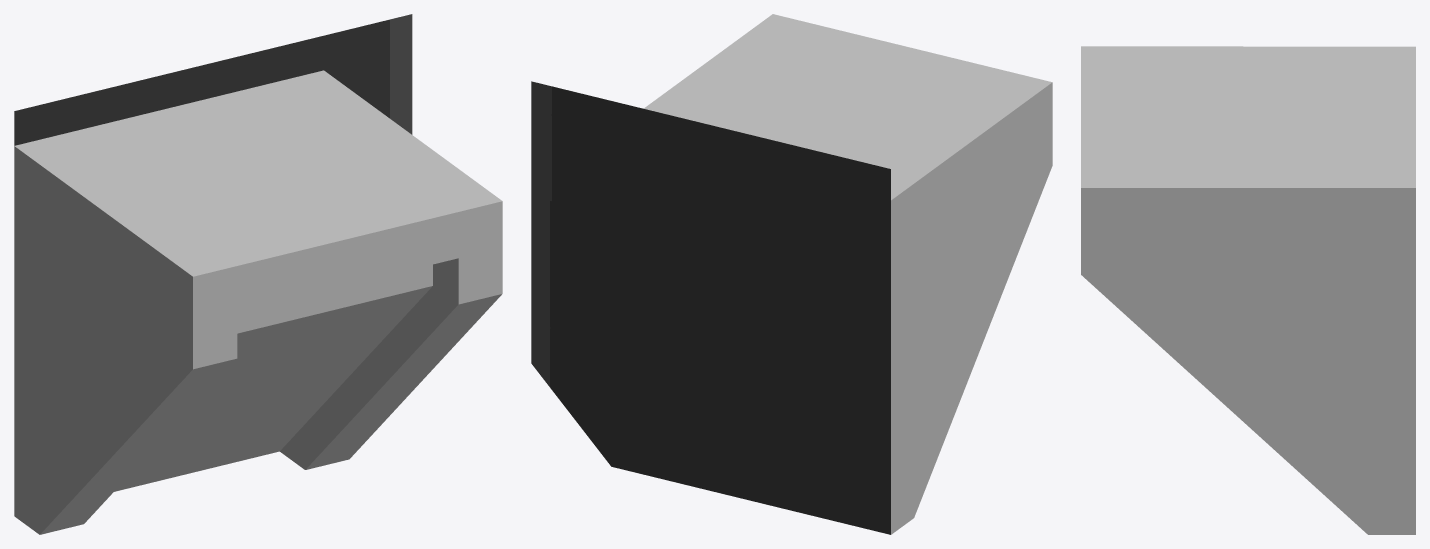
File: Stairs1.obj
3 views of the same model, side by side, from view 1: azimuth 30°, elevation 25°; view 2: azimuth 150°, elevation 25°; view 3: azimuth 270°, elevation 25° (orthographic). The views are drawn at different scales.
Visible parts, largest first — view 1: map; view 2: map; view 3: map.
Boxes of the visible parts, x1,y1,x2,y2 form: map: [14, 14, 502, 534]; map: [531, 14, 1052, 534]; map: [1081, 46, 1415, 534].
Size of the model in its own units: 2.25 by 2.19 by 1.75.
